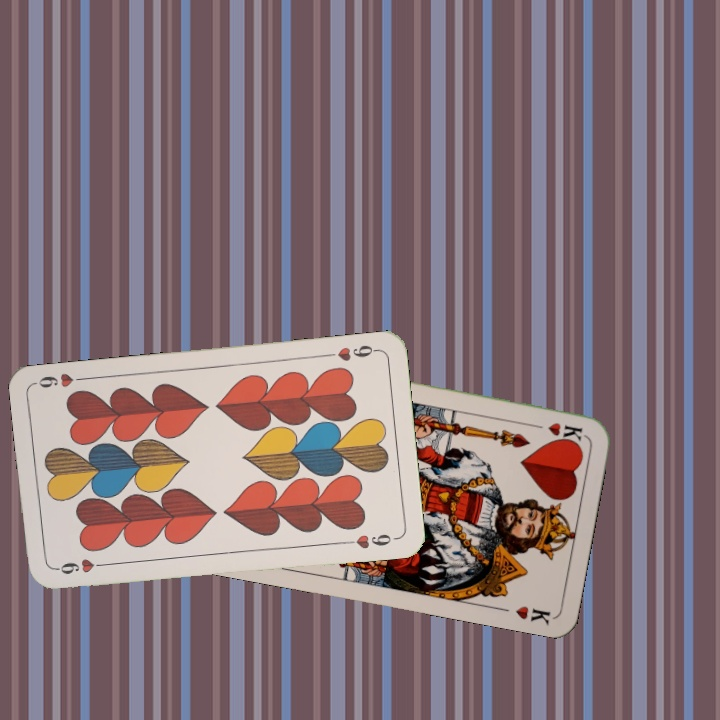H9: (321, 341, 381, 364), (51, 554, 110, 577)
HK: (527, 418, 585, 445)
